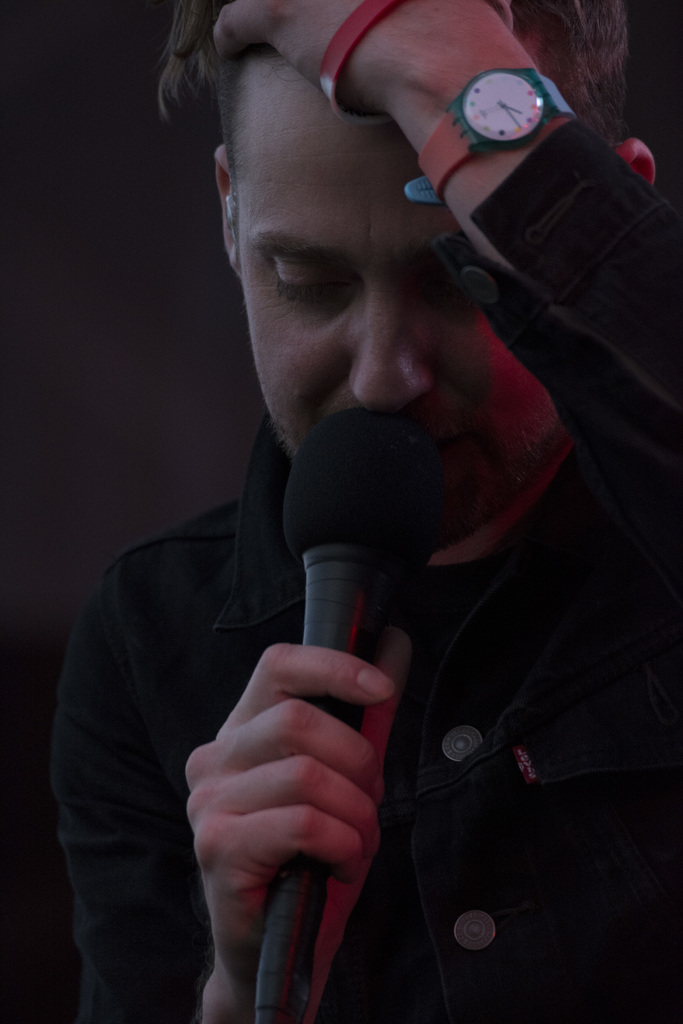watch: (405, 63, 573, 208)
